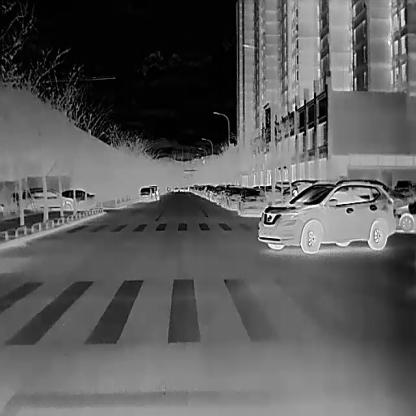car: (257, 180, 396, 251), (24, 189, 74, 212), (236, 187, 268, 217), (59, 188, 96, 208), (226, 188, 244, 211), (138, 186, 156, 202), (148, 184, 159, 202), (220, 190, 229, 208), (215, 192, 222, 204), (209, 190, 214, 202)
